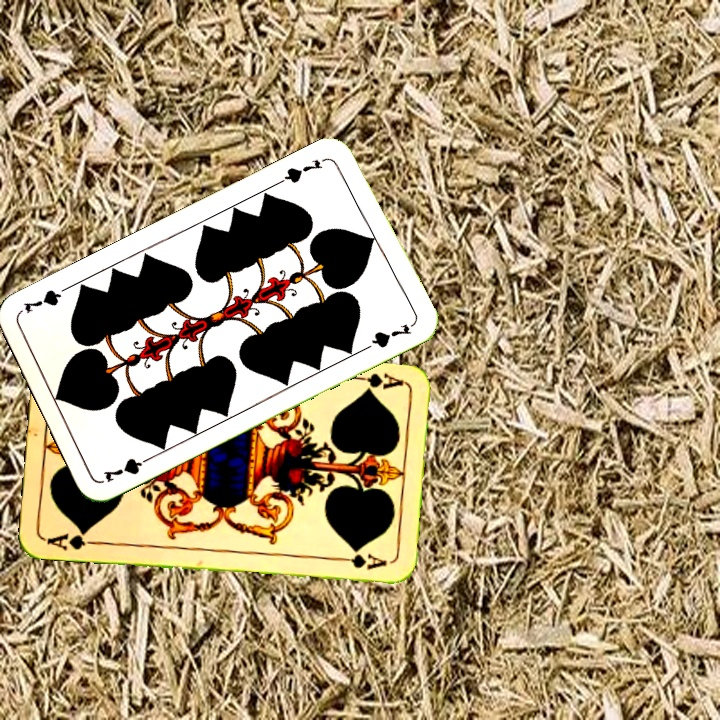G7: (99, 451, 156, 485), (276, 155, 325, 186)
GA: (42, 526, 102, 552), (346, 369, 405, 391)
